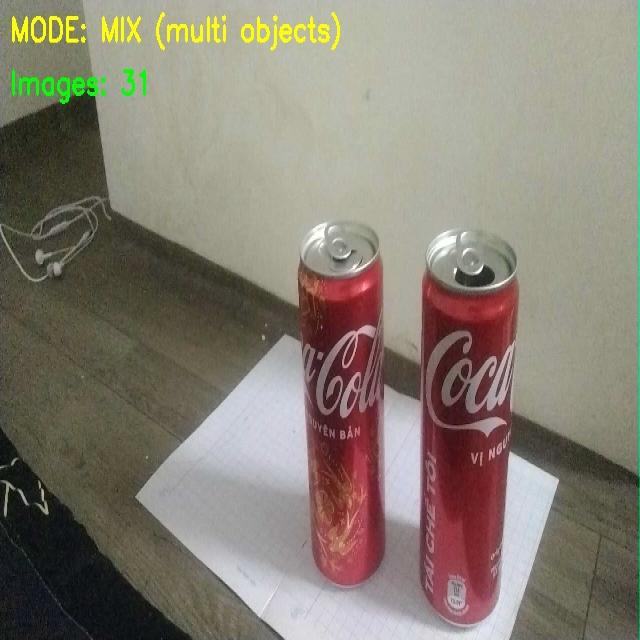Coca: (286, 217, 401, 601)
Coca_open: (419, 214, 523, 635)
